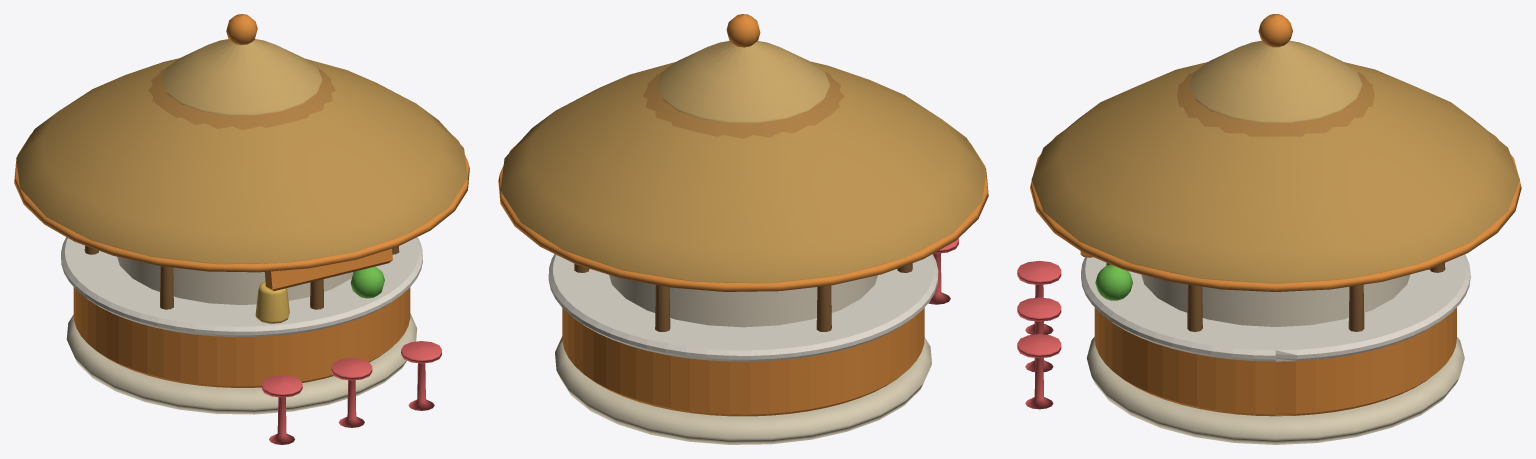
Rendered from quiosque_3.glb.
3 views of the same model, side by side, from view 1: azimuth 30°, elevation 25°; view 2: azimuth 150°, elevation 25°; view 3: azimuth 270°, elevation 25° (orthographic). The views are drawn at different scales.
Visible parts, largest first — view 1: quiosque_3_corpo; view 2: quiosque_3_corpo; view 3: quiosque_3_corpo.
Part boxes in pixels (x1,y1,x2,y2): quiosque_3_corpo: (14, 14, 469, 444); quiosque_3_corpo: (498, 14, 988, 444); quiosque_3_corpo: (1017, 14, 1521, 444).
Bounding box in the file's own units: 6.24 × 4.92 × 6.4.
